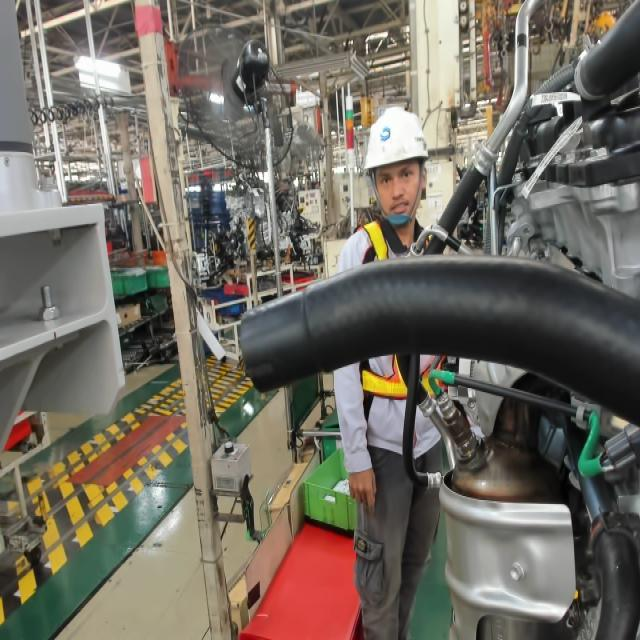Hose Radiator-PC: (245, 360, 276, 384)
